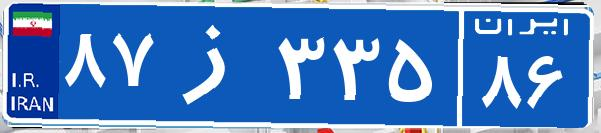3: (273, 28, 330, 110), (330, 28, 385, 110)
5: (385, 28, 445, 110)
6: (525, 38, 570, 115)
7: (110, 28, 158, 105)
8: (57, 26, 110, 107), (475, 38, 525, 113)
ز: (158, 15, 273, 115)
